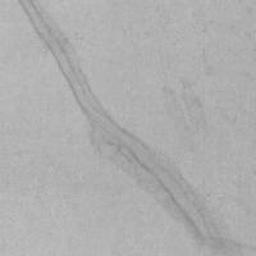Water spot: (15, 0, 256, 256), (160, 77, 209, 155)
